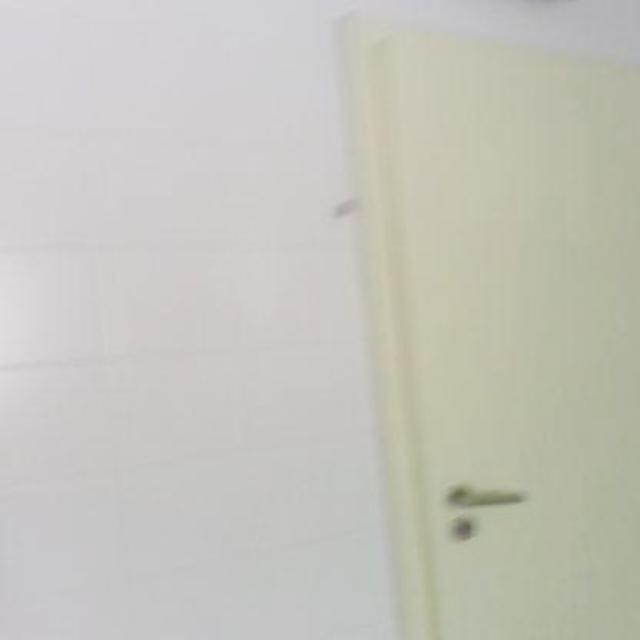door: (345, 17, 639, 639)
